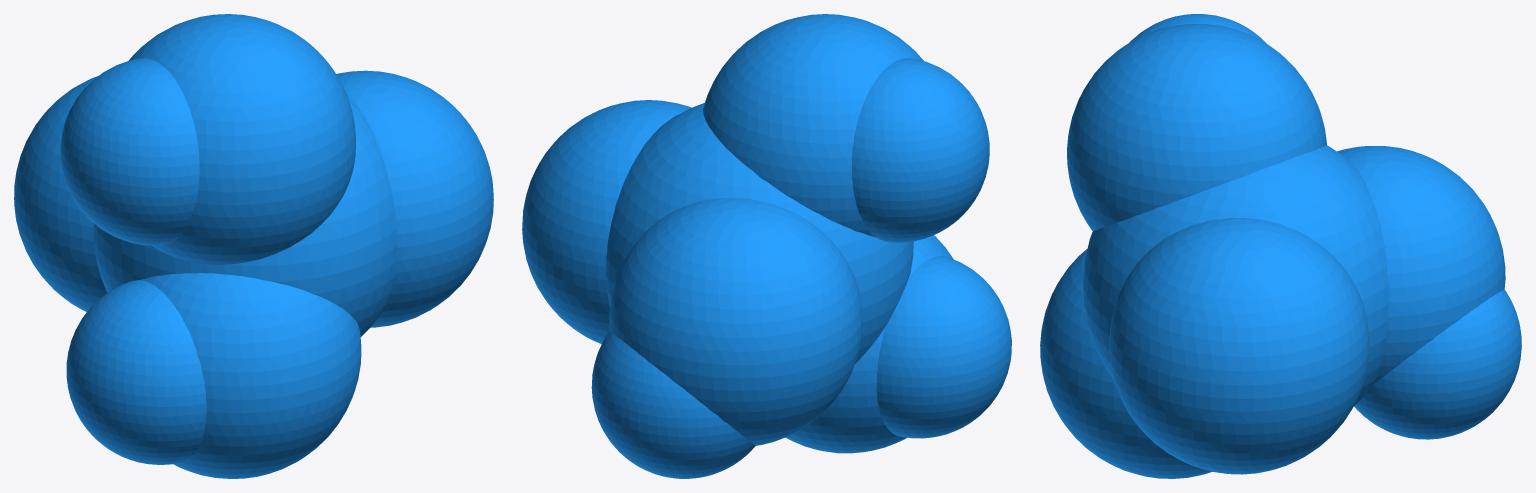
The model's file is 1004-cpk-print_mr_NIH3D.glb.
3 renders of one model, left to right at view 1: azimuth 30°, elevation 25°; view 2: azimuth 150°, elevation 25°; view 3: azimuth 270°, elevation 25°, orthographic. The views are drawn at different scales.
Parts seen in each view (by area): view 1: 1004-cpk-print_NIH3D_mr; view 2: 1004-cpk-print_NIH3D_mr; view 3: 1004-cpk-print_NIH3D_mr.
Part boxes in pixels (left/top/right/bottom): 1004-cpk-print_NIH3D_mr: left=14, top=14, right=493, bottom=478; 1004-cpk-print_NIH3D_mr: left=522, top=14, right=1011, bottom=478; 1004-cpk-print_NIH3D_mr: left=1040, top=14, right=1521, bottom=478.
Size of the model in its own units: 5.82 by 5.52 by 5.54.
